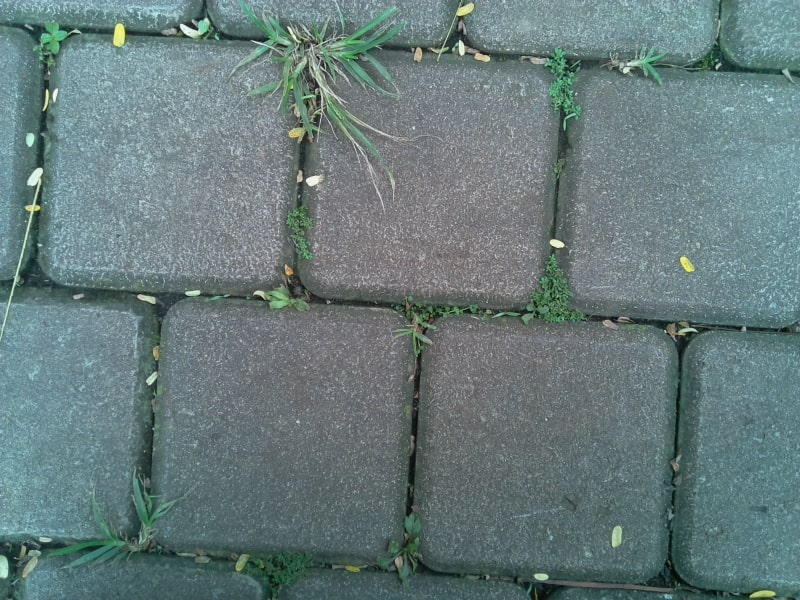Weed: (238, 6, 396, 182), (58, 491, 170, 562), (528, 258, 581, 323), (377, 513, 422, 580), (240, 550, 312, 588), (545, 50, 584, 120), (611, 52, 664, 88), (398, 305, 431, 349), (285, 204, 311, 253), (37, 22, 69, 60), (256, 287, 307, 310)
